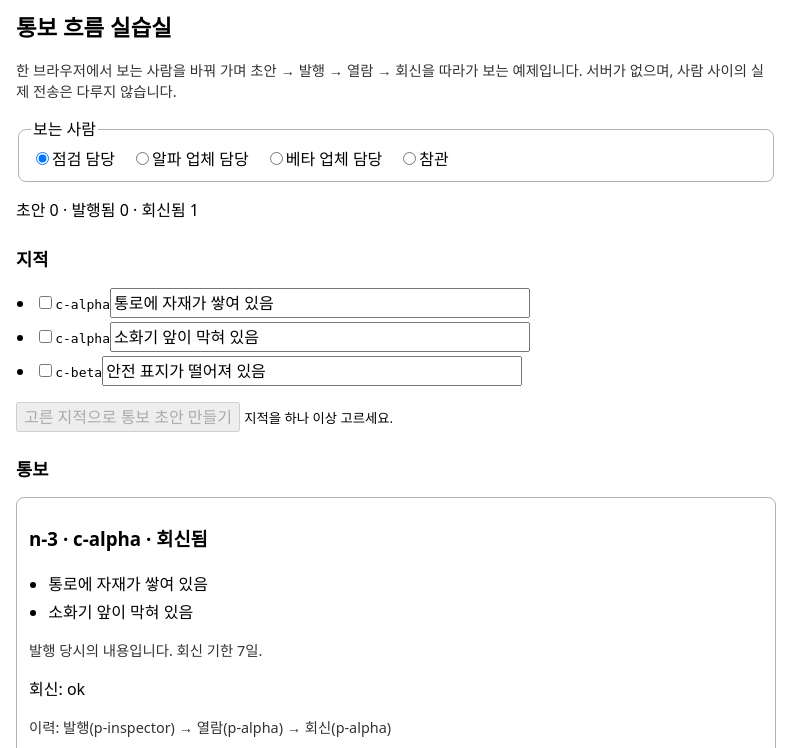
it: defect 1: another company could read findings and totals that were not addressed to it › on the screen, the other company sees neither the text, nor the card, nor the total
Click the radio button labelled "베타 업체 담당" at (276, 158), box [270,152,283,165]
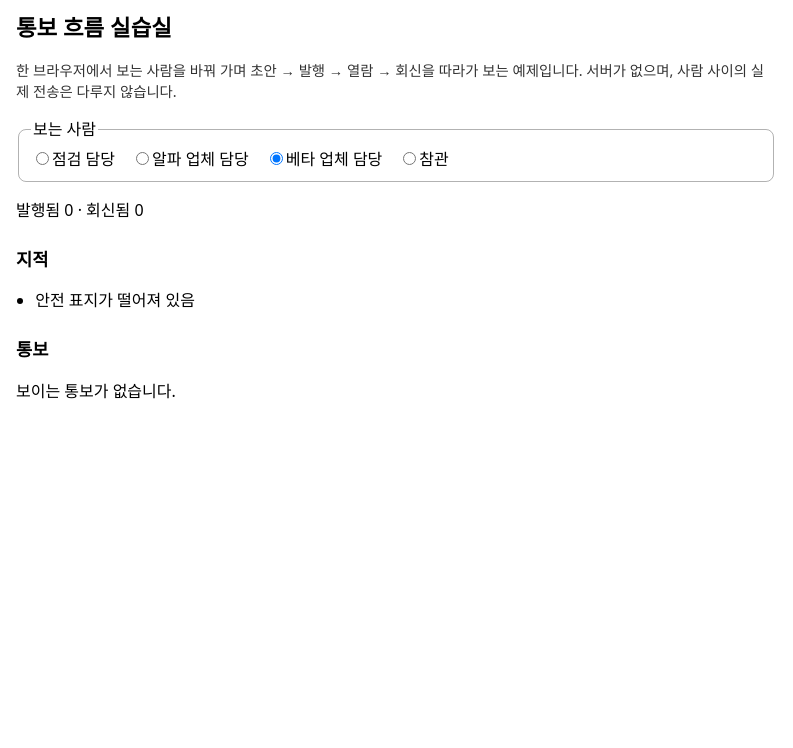
Expected: the text "통로에 자재가 쌓여 있음" is gone
Expected: the text "소화기 앞이 막혀 있음" is gone
Expected: the text with test id "counts" reads "발행됨 0 · 회신됨 0", [16,199,144,221]
